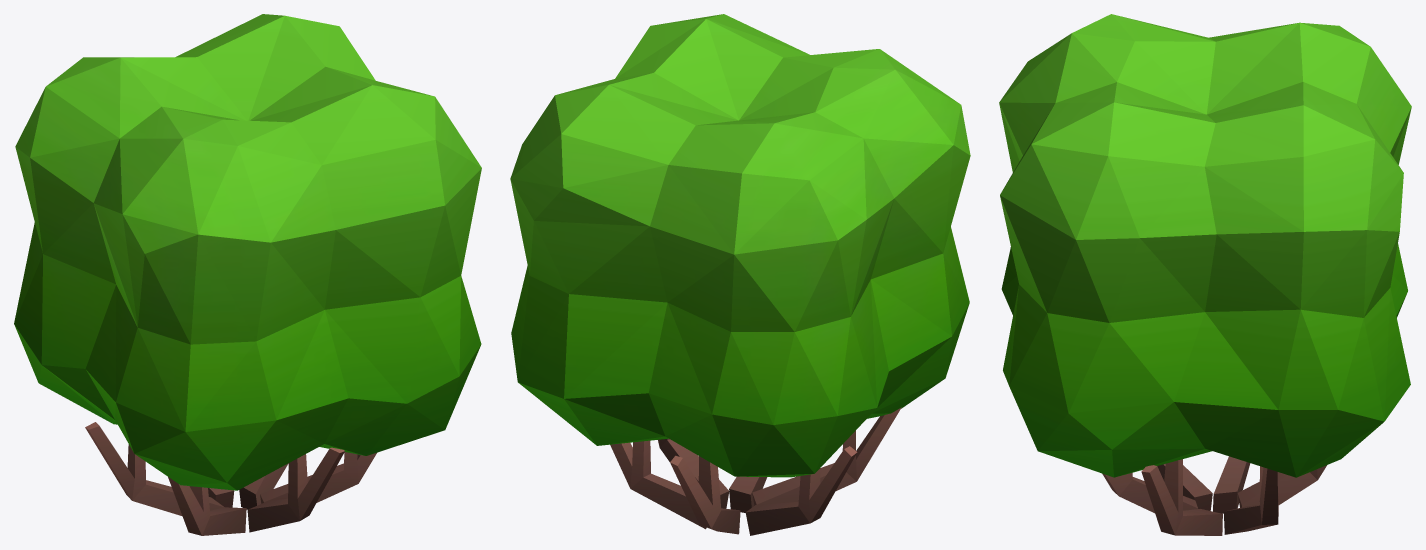
File: bush1.glb
3 views of the same model, side by side, from view 1: azimuth 30°, elevation 25°; view 2: azimuth 150°, elevation 25°; view 3: azimuth 270°, elevation 25° (orthographic). The views are drawn at different scales.
Visible parts, largest first — view 1: bush1; view 2: bush1; view 3: bush1.
Part boxes in pixels (box(x1,y1,x2,y2)): bush1: box(14, 14, 481, 535); bush1: box(510, 14, 970, 535); bush1: box(999, 14, 1411, 535).
Size of the model in its own units: 1.3 by 1.63 by 1.32.
Materials: 1 (1 with a texture image).
